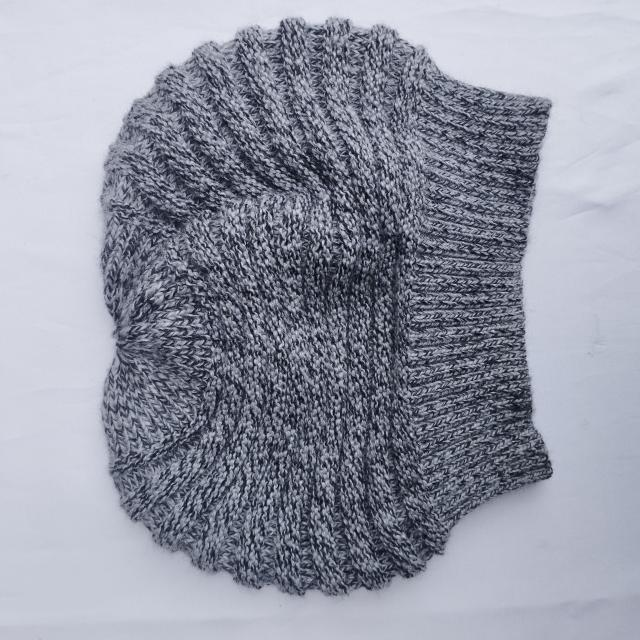Gorro: (99, 15, 556, 597)
